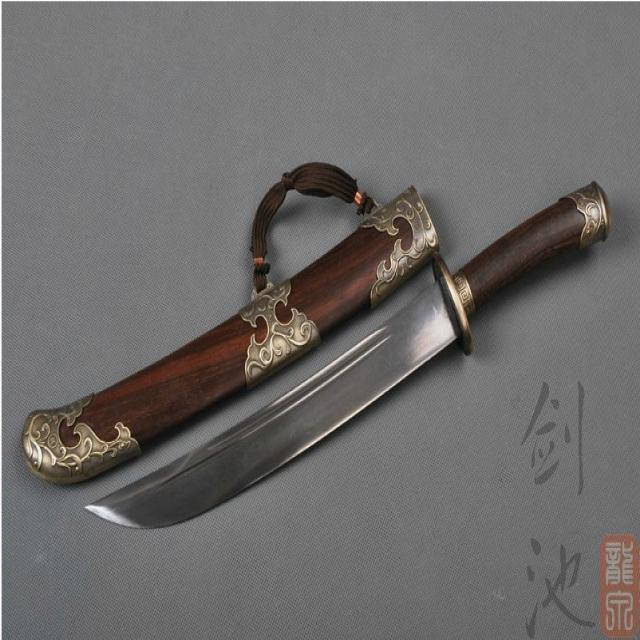short sword: (14, 146, 614, 544)
